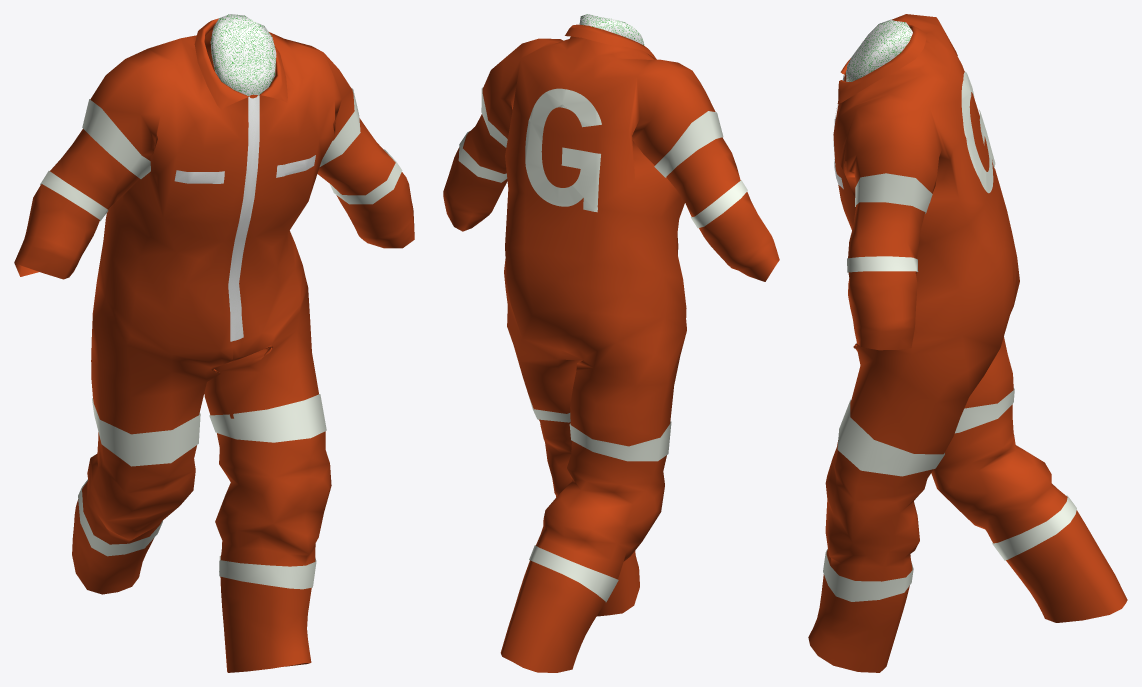
File: complete_vest.fbx
3 views of the same model, side by side, from view 1: azimuth 30°, elevation 25°; view 2: azimuth 150°, elevation 25°; view 3: azimuth 270°, elevation 25° (orthographic). The views are drawn at different scales.
Visible parts, largest first — view 1: man_1_19MB1; view 2: man_1_19MB1; view 3: man_1_19MB1.
Boxes of the visible parts, bbox=[...] form: man_1_19MB1: bbox=[14, 14, 414, 672]; man_1_19MB1: bbox=[443, 14, 779, 672]; man_1_19MB1: bbox=[808, 14, 1127, 672].
Bounding box in the file's own units: 35.99 × 59.23 × 26.97.
